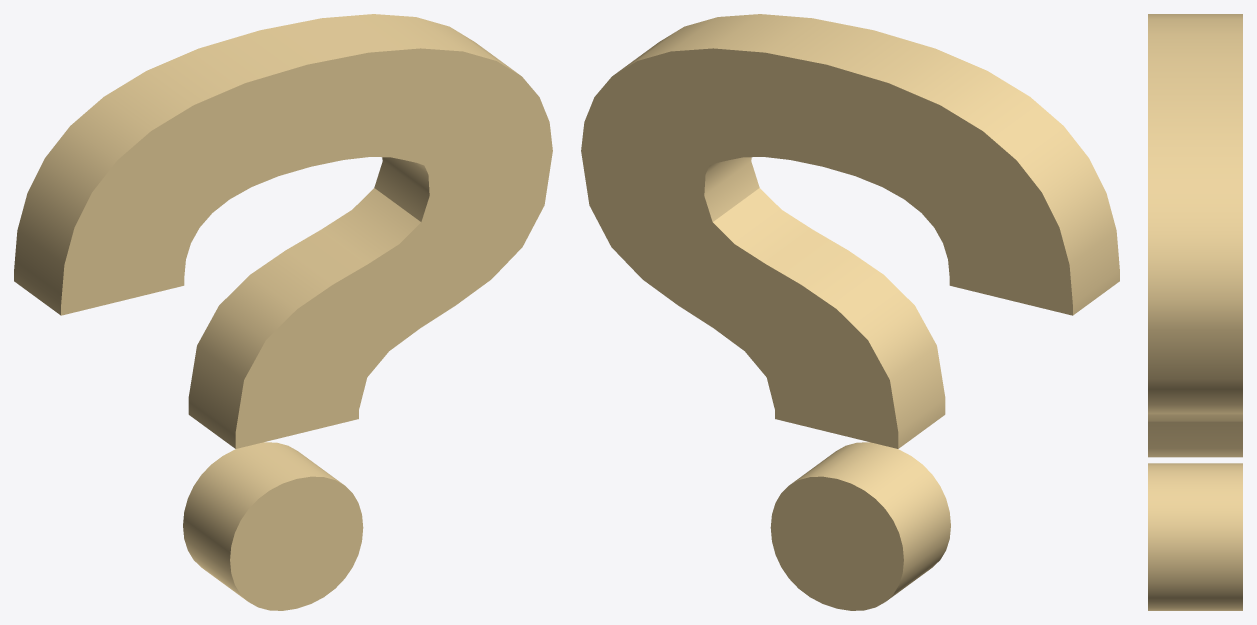
File: q_mark.glb
The picture shows the model from 3 angles, left to right: view 1: azimuth 30°, elevation 25°; view 2: azimuth 150°, elevation 25°; view 3: azimuth 270°, elevation 25°; orthographic projection.
Parts seen in each view (by area): view 1: svgMeshShape3; view 2: svgMeshShape3; view 3: svgMeshShape3.
Part boxes in pixels (<box>): svgMeshShape3: <box>14,14,552,610</box>; svgMeshShape3: <box>581,14,1119,610</box>; svgMeshShape3: <box>1148,14,1242,610</box>.
Size of what is drawn, in the model's own units: 9.5 by 10 by 1.58.
